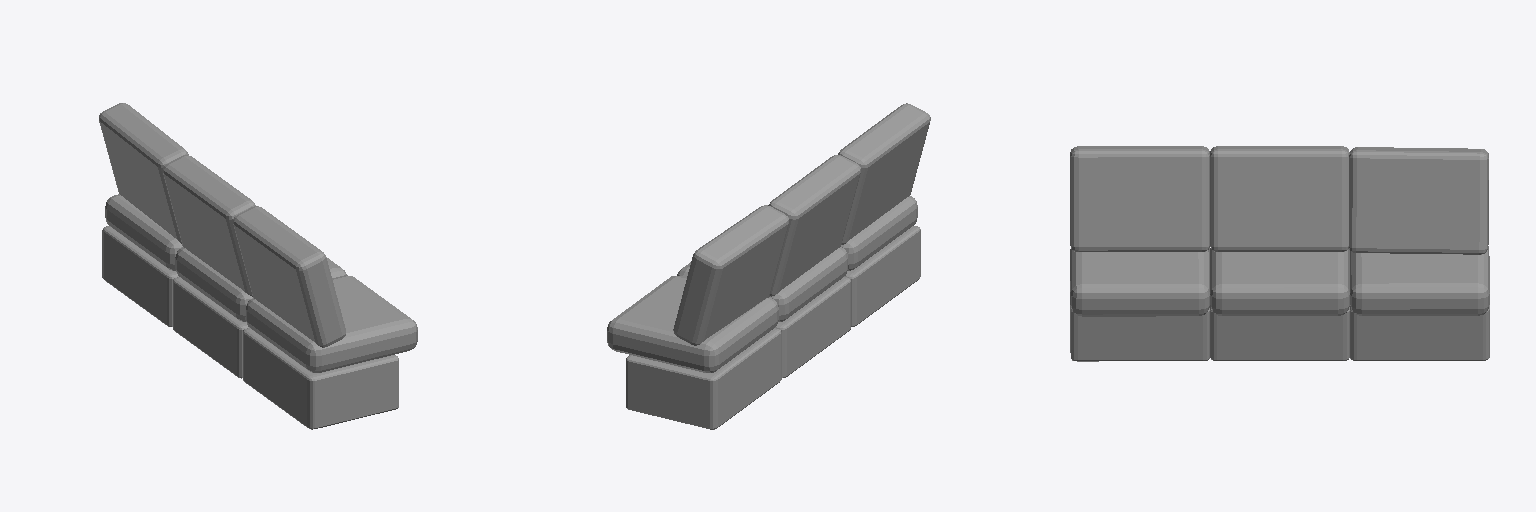
File: Sofa_baseCube.obj
3 renders of one model, left to right at view 1: azimuth 30°, elevation 25°; view 2: azimuth 150°, elevation 25°; view 3: azimuth 270°, elevation 25°, orthographic.
Visible parts, largest first — view 1: middle_left_Cube.002; view 2: middle_left_Cube.002; view 3: middle_left_Cube.002.
Boxes of the visible parts, box(x1,y1,x2,y2) form: middle_left_Cube.002: box(99, 103, 417, 429); middle_left_Cube.002: box(607, 103, 930, 429); middle_left_Cube.002: box(1070, 146, 1489, 361).
Bounding box in the file's own units: 0.7919 × 1.07 × 2.34.